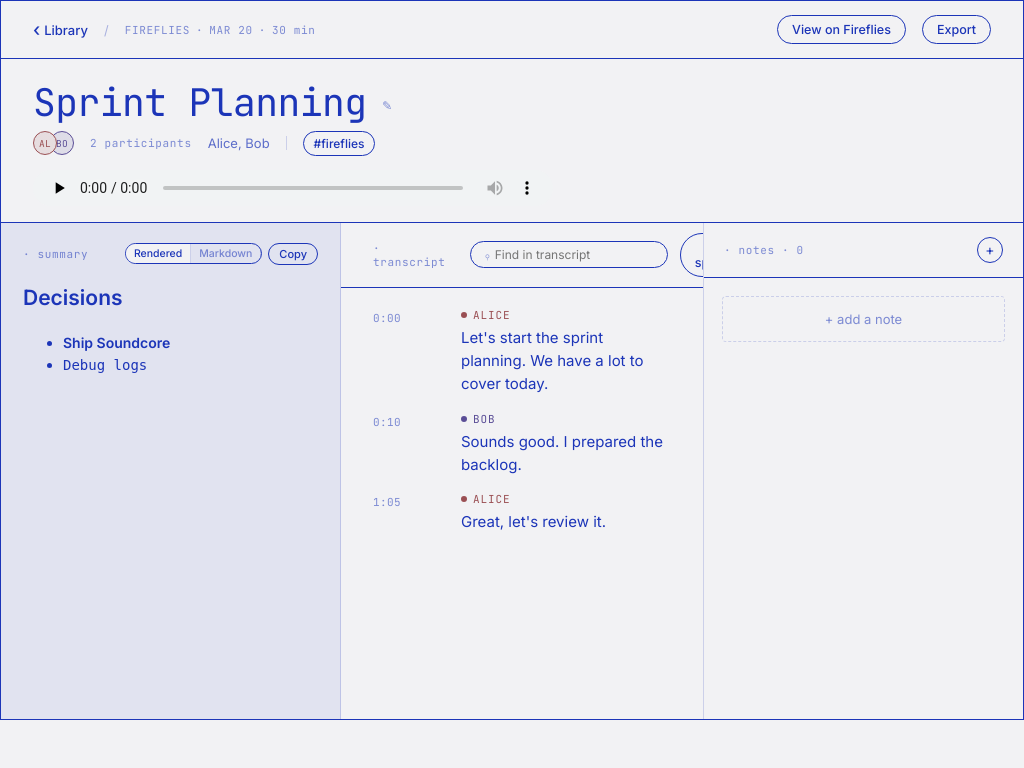
Test: ConversationDetail › toggles summary between rendered markdown and raw markdown
This screenshot has width=1024, height=768.
Expected: the heading "Decisions" is shown, [23,285,122,310]
Click the button "Markdown" at (226, 254), box [191,244,261,263]
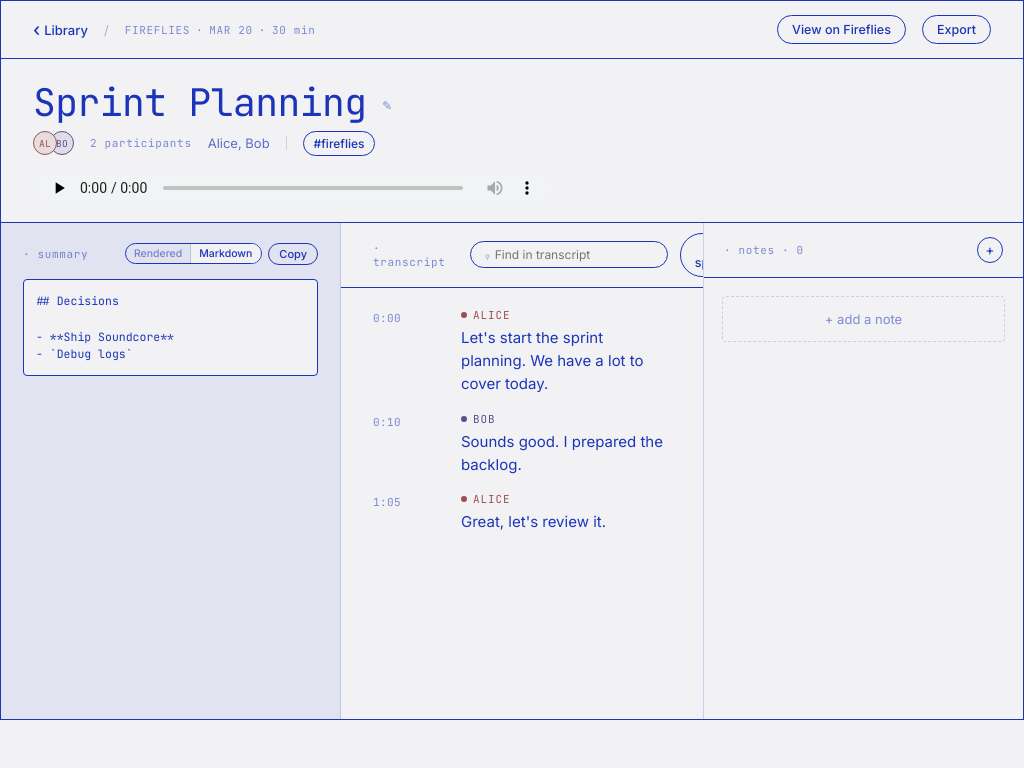
Now the text "## Decisions - **Ship Soundcore** - `Debug logs`" is shown, box [23,279,318,376]
